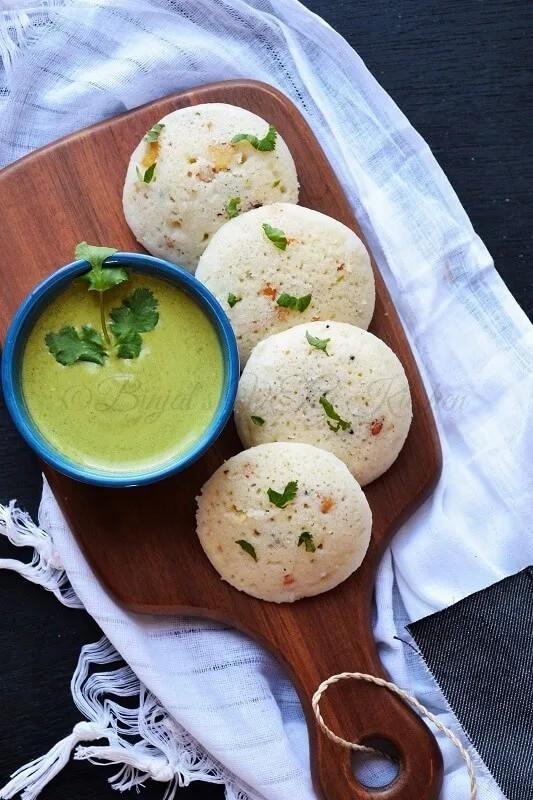Idli: (194, 205, 376, 390), (124, 102, 300, 267), (240, 320, 417, 482), (196, 448, 376, 600)
